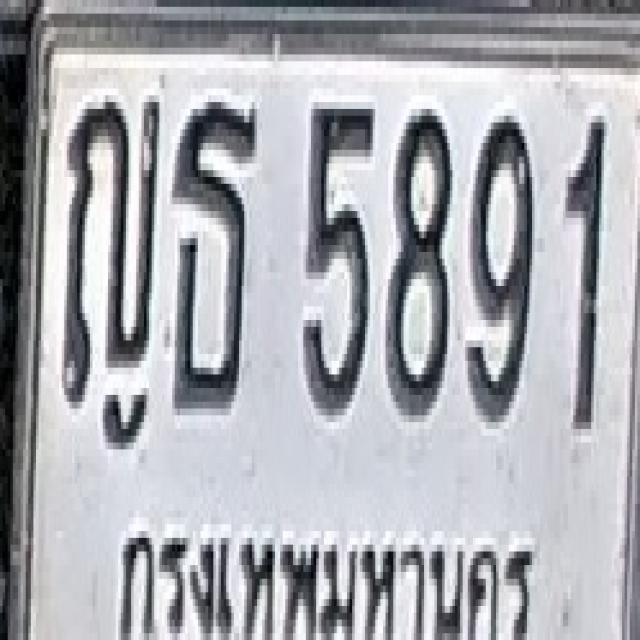1: (564, 112, 605, 432)
5: (302, 99, 374, 418)
8: (387, 102, 451, 415)
9: (466, 109, 534, 422)
A13: (63, 92, 161, 405)
A24: (172, 99, 257, 412)
BKK: (121, 501, 545, 640)
